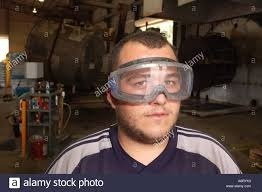person without safety: (43, 29, 247, 174)
